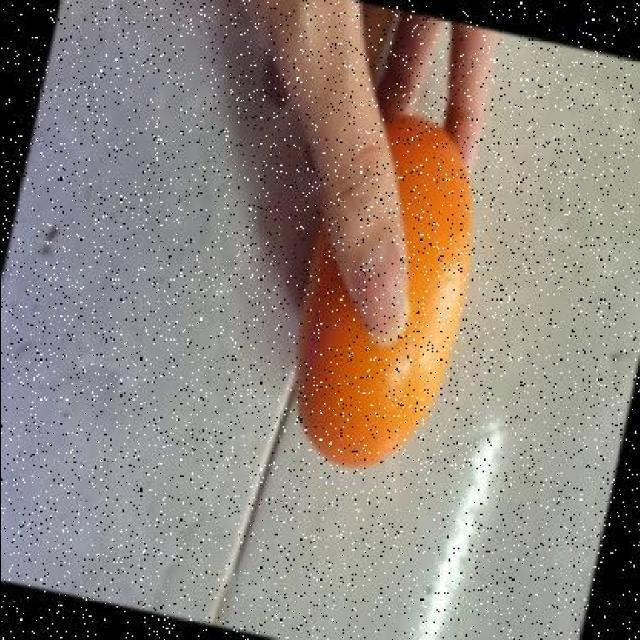Orange: (296, 113, 476, 470)
